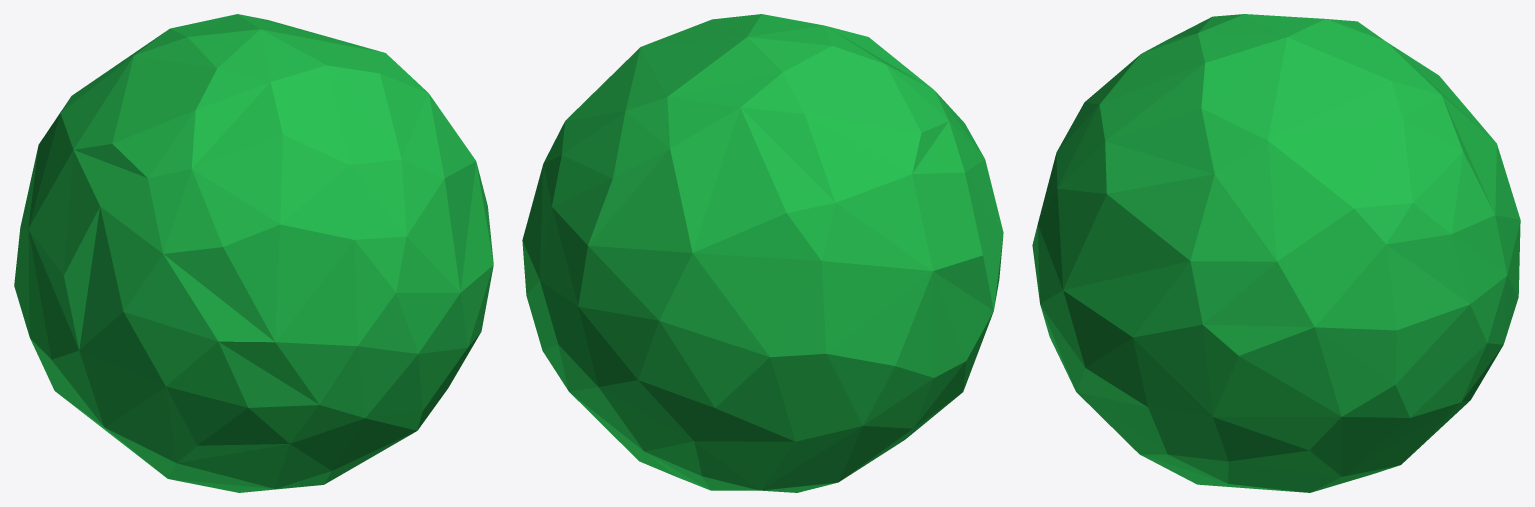
File: missile.glb
3 renders of one model, left to right at view 1: azimuth 30°, elevation 25°; view 2: azimuth 150°, elevation 25°; view 3: azimuth 270°, elevation 25°, orthographic.
Size of the model in its own units: 0.0196 by 0.0198 by 0.0199.
